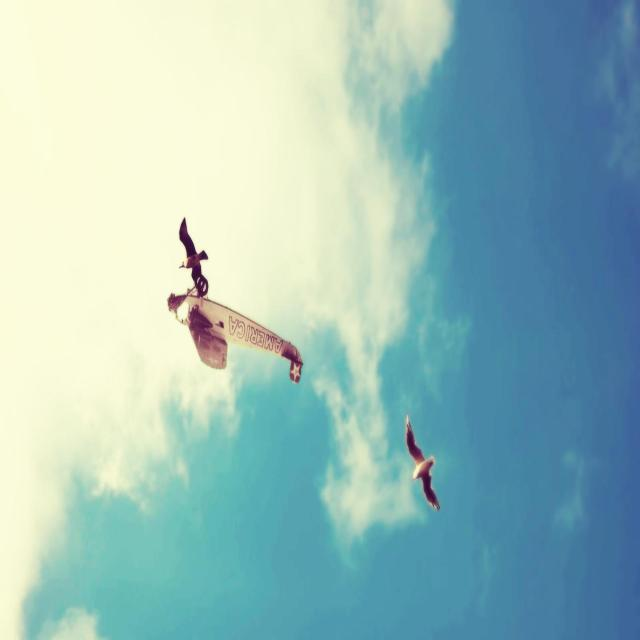airplane: (168, 292, 304, 384)
